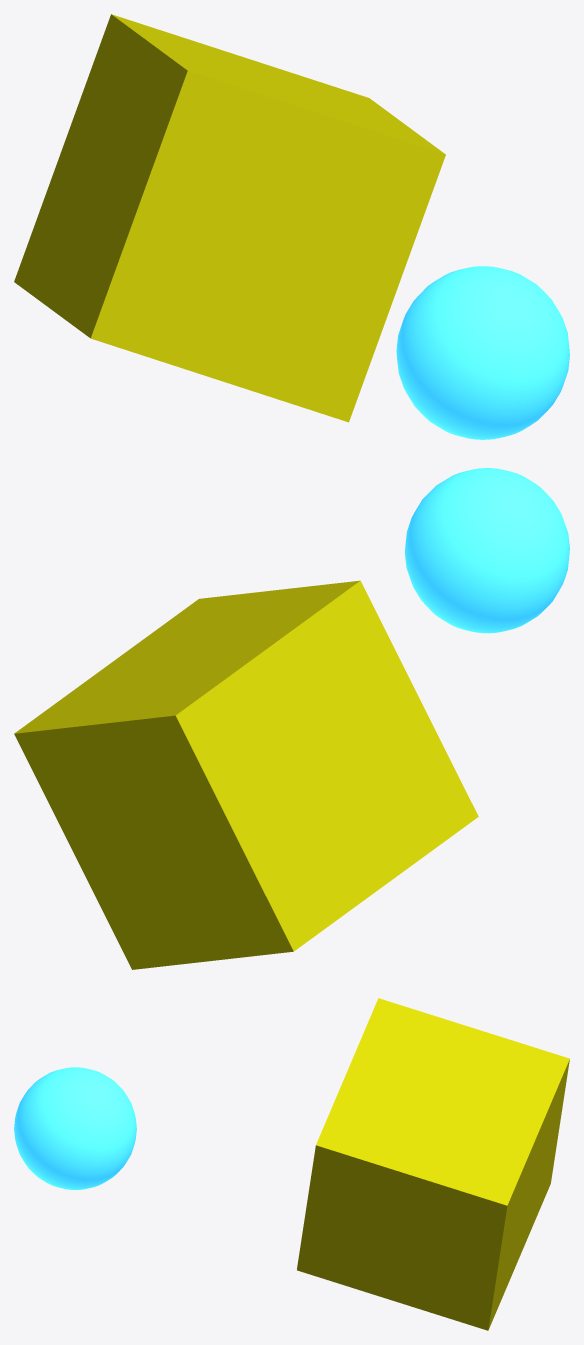
3 renders of one model, top to bottom at view 1: azimuth 30°, elevation 25°; view 2: azimuth 150°, elevation 25°; view 3: azimuth 270°, elevation 25°, orthographic. The views are drawn at different scales.
Parts seen in each view (by area): view 1: Cube, Sphere; view 2: Cube, Sphere; view 3: Cube, Sphere.
Part boxes in pixels (bbox=[...]): Cube: bbox=[14, 14, 445, 422]; Sphere: bbox=[396, 266, 569, 439]; Cube: bbox=[14, 580, 478, 969]; Sphere: bbox=[405, 468, 569, 633]; Cube: bbox=[297, 998, 569, 1330]; Sphere: bbox=[14, 1067, 136, 1189].
Size of the model in its own units: 3.09 by 3.02 by 5.49.
